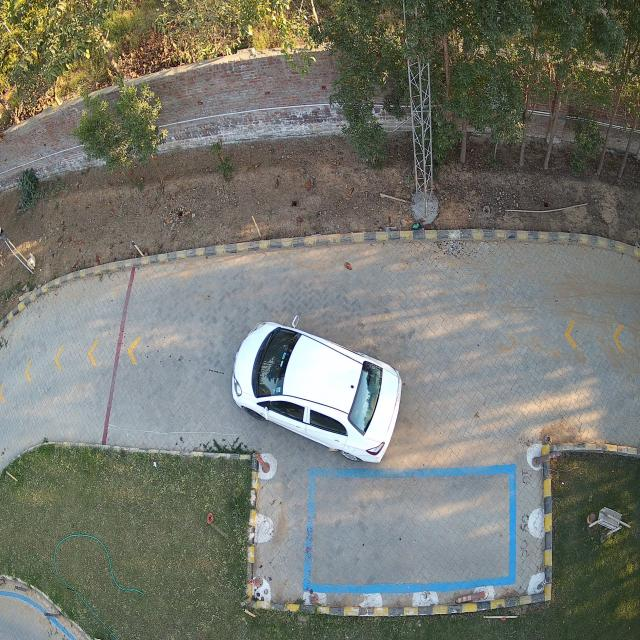car: (232, 323, 403, 467)
